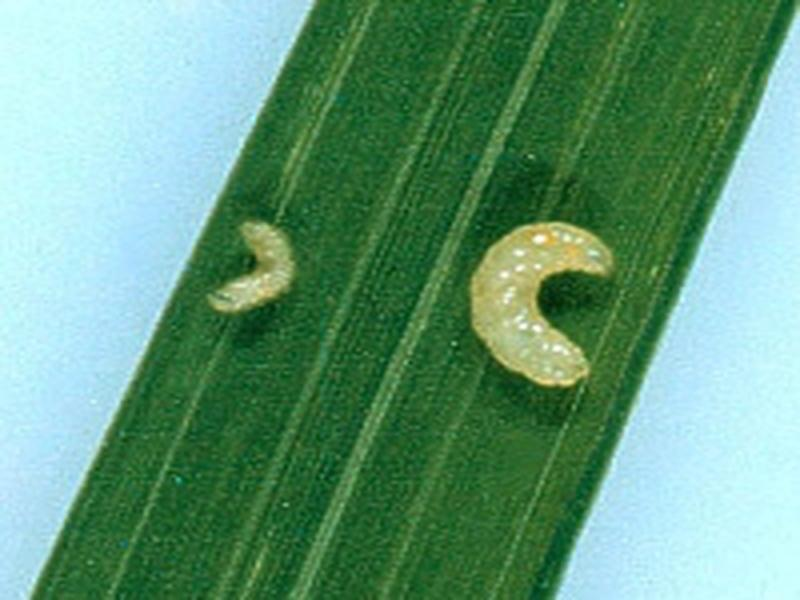Whorl_maggot: (448, 214, 622, 385), (196, 211, 296, 316)
